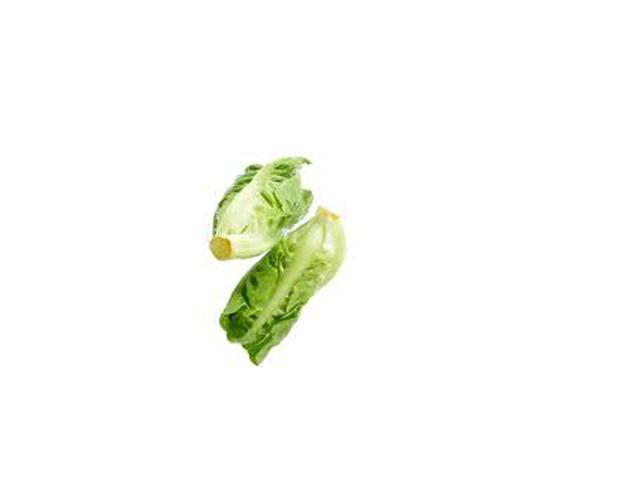lettuce: (183, 149, 348, 356)
